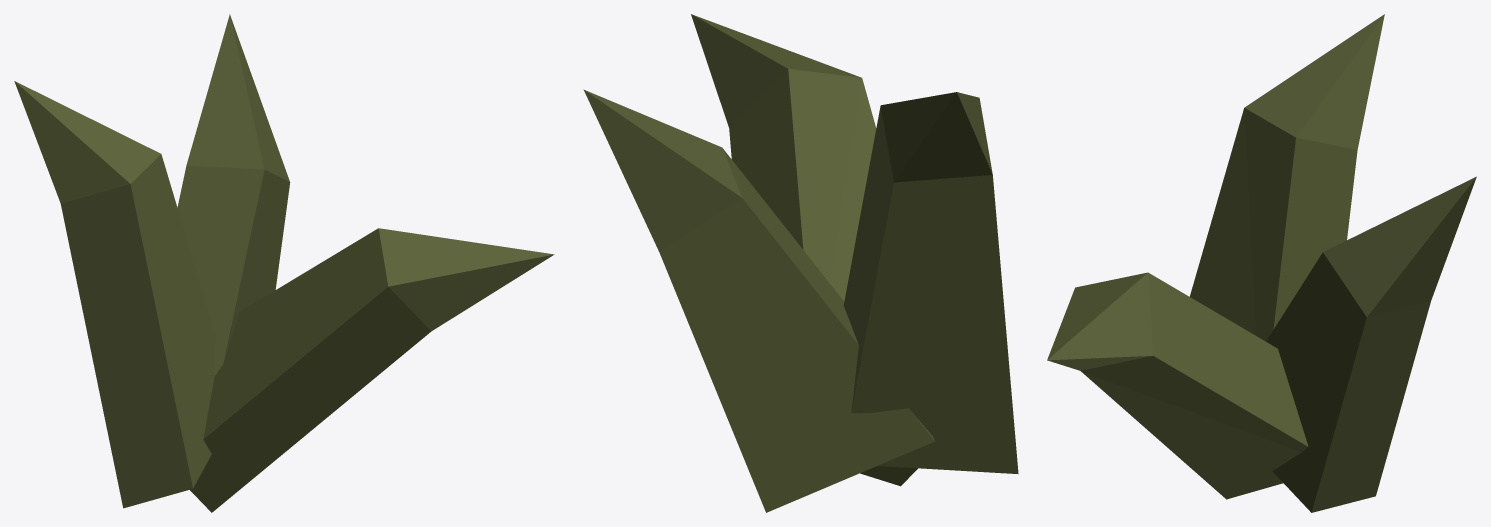
The model's file is SM_Env_Grass_01.glb.
3 renders of one model, left to right at view 1: azimuth 30°, elevation 25°; view 2: azimuth 150°, elevation 25°; view 3: azimuth 270°, elevation 25°, orthographic. The views are drawn at different scales.
Parts seen in each view (by area): view 1: SM_Env_Grass_01; view 2: SM_Env_Grass_01; view 3: SM_Env_Grass_01.
Boxes of the visible parts, x1,y1,x2,y2 form: SM_Env_Grass_01: (14, 14, 554, 512); SM_Env_Grass_01: (583, 14, 1018, 512); SM_Env_Grass_01: (1047, 14, 1476, 512).
Size of the model in its own units: 2.99 by 3.06 by 2.82.
Materials: 1 (1 with a texture image).
